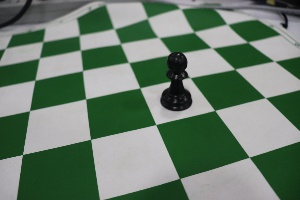black_pawn: (153, 41, 196, 116)
